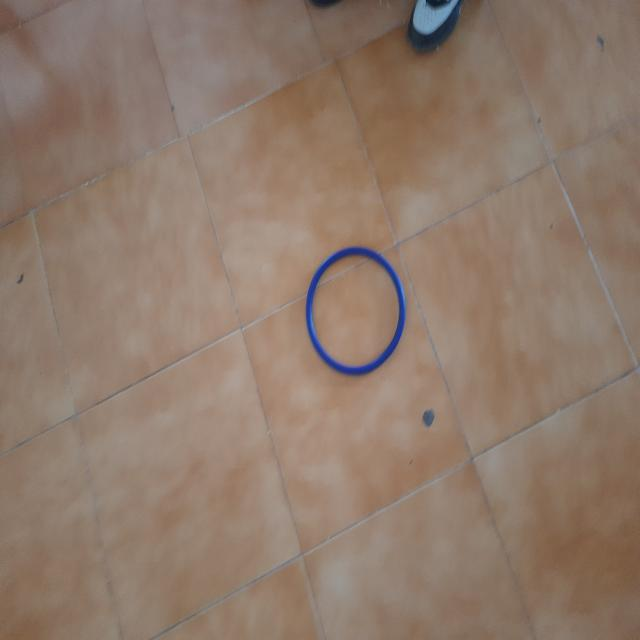daire: (306, 239, 409, 380)
